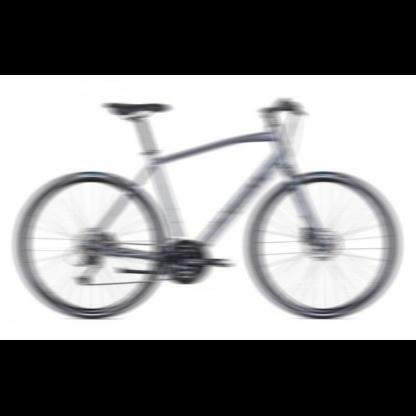Bicycle: (8, 81, 413, 333)
